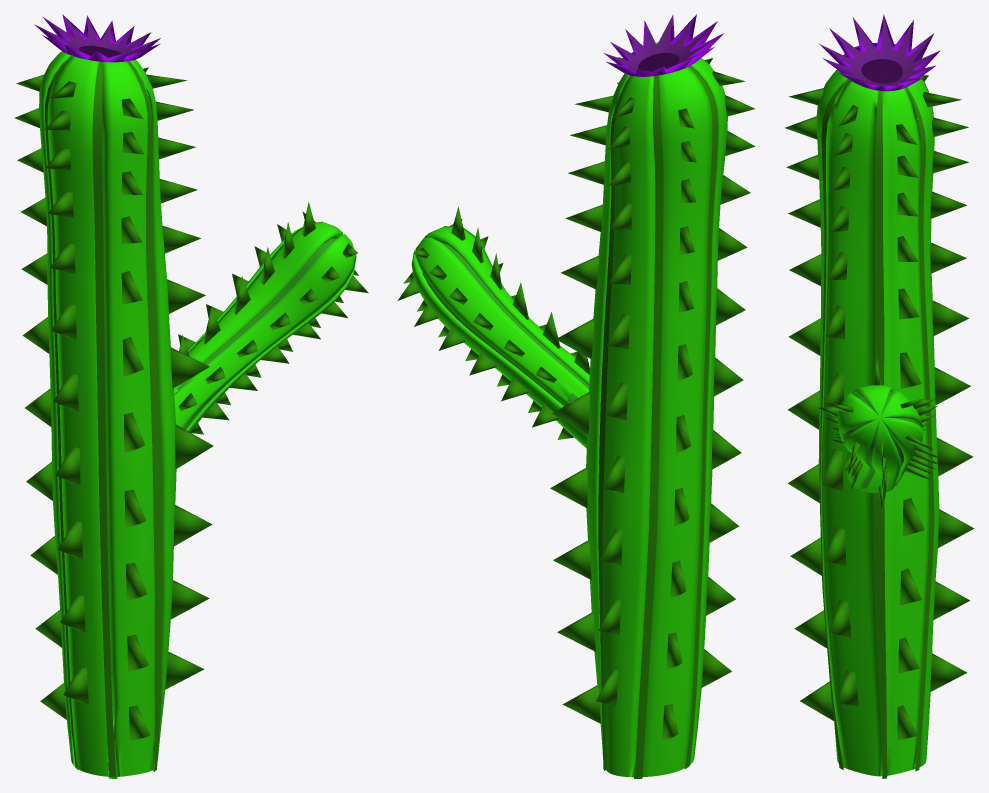
Rendered from cactus.fbx.
3 views of the same model, side by side, from view 1: azimuth 30°, elevation 25°; view 2: azimuth 150°, elevation 25°; view 3: azimuth 270°, elevation 25° (orthographic). The views are drawn at different scales.
Visible parts, largest first — view 1: Cactus, Flower; view 2: Cactus, Flower; view 3: Cactus, Flower.
Part boxes in pixels (x1,y1,x2,y2): Cactus: (14, 51, 368, 778); Flower: (34, 14, 160, 62); Cactus: (397, 42, 755, 778); Flower: (604, 14, 723, 76); Cactus: (785, 70, 974, 778); Flower: (818, 14, 940, 91).
Size of the model in its own units: 433 by 915 by 221.
